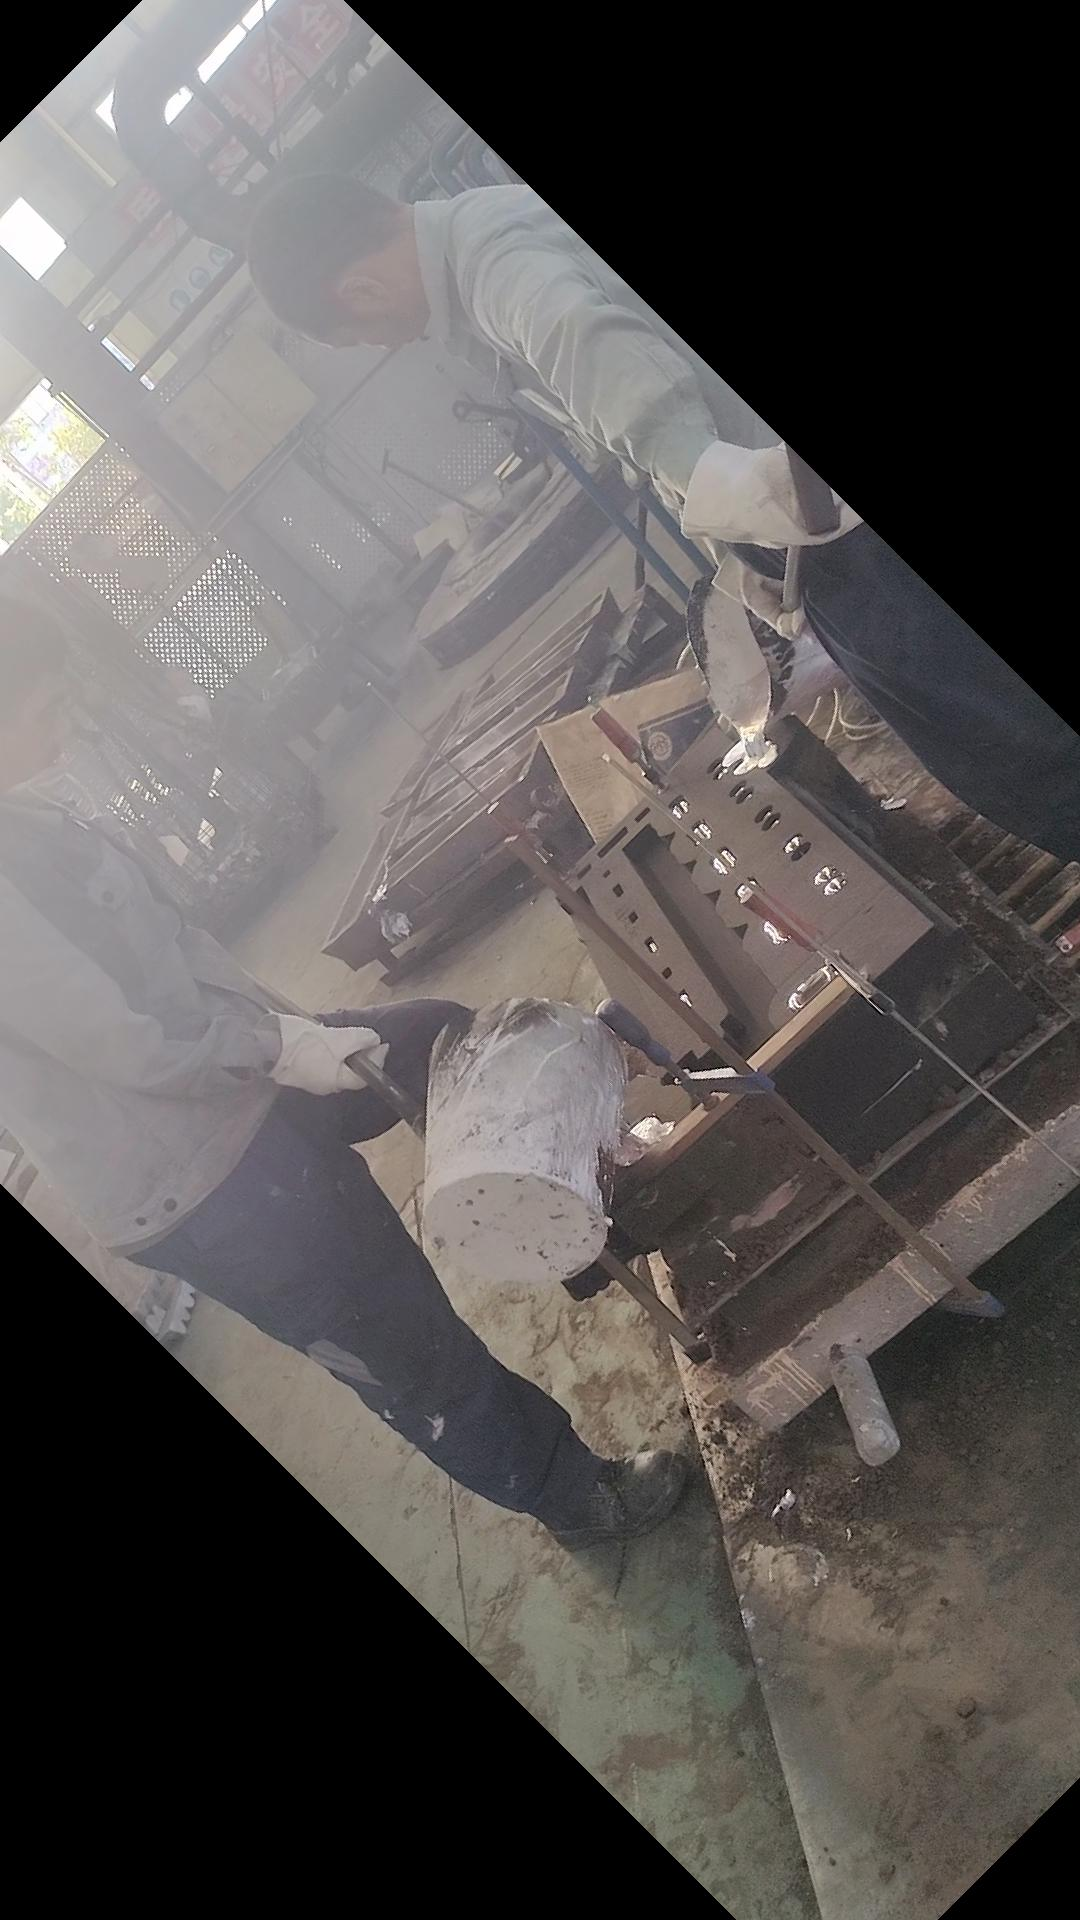pouring hole: (609, 1116, 665, 1162), (732, 738, 774, 777)
